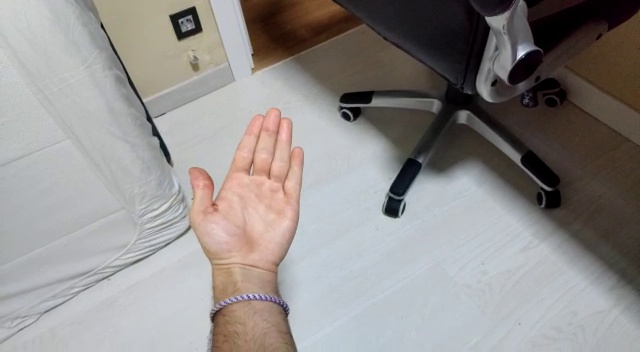Palm: (182, 104, 306, 278)
